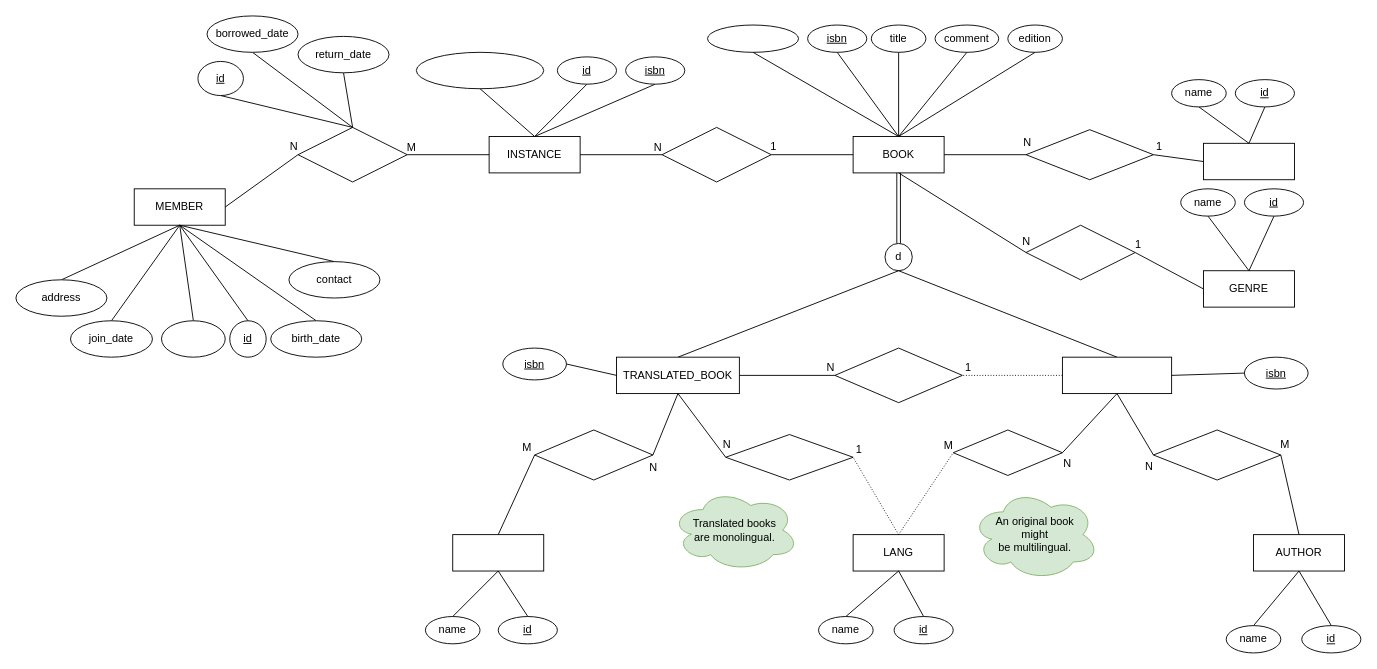
Image size: 1377x669. Some labels were removed from this diagram. The centre of each missing label's shape, as x and y in pixels:
"BORROWED" belongs at [352,154].
"full_name" belongs at [193,338].
"IN_GENRE" belongs at [1080,252].
"INSTANCE_OF" belongs at [716,154].
"ORIGINAL_BOOK" belongs at [1117,375].
"PUBLISHED_BY" belongs at [1089,154].
"published_date" belongs at [753,38].
"PUBLISHER" belongs at [1248,161].
"TRANSLATED_BY" belongs at [593,454].
"TRANSLATED_TO" belongs at [789,457].
"TRANSLATION_OF" belongs at [898,375].
"TRANSLATOR" belongs at [498,552].
"WRITTEN_BY" belongs at [1217,454].
"WRITTEN_IN" belongs at [1007,452].
"year_added_to_library" belongs at [479,70].
